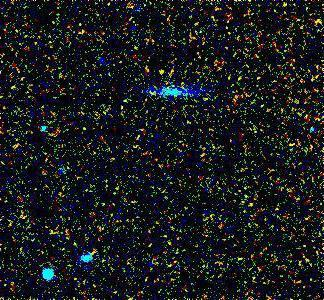star: (148, 58, 178, 88)
